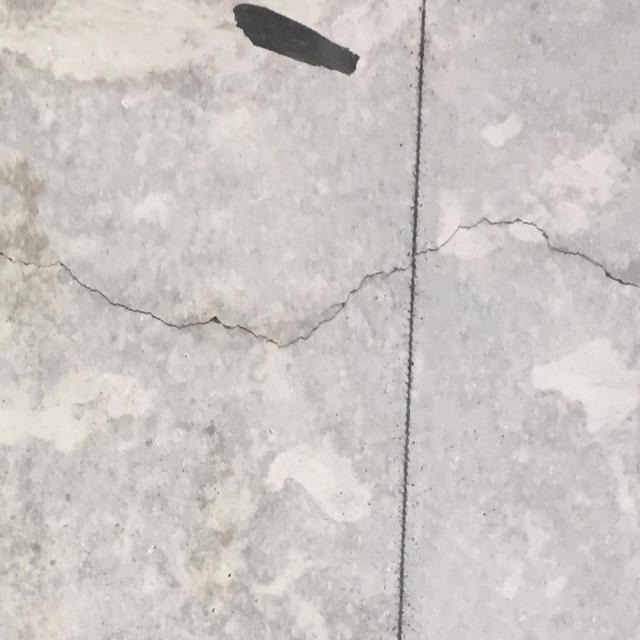horizontal crack: (0, 214, 639, 349)
